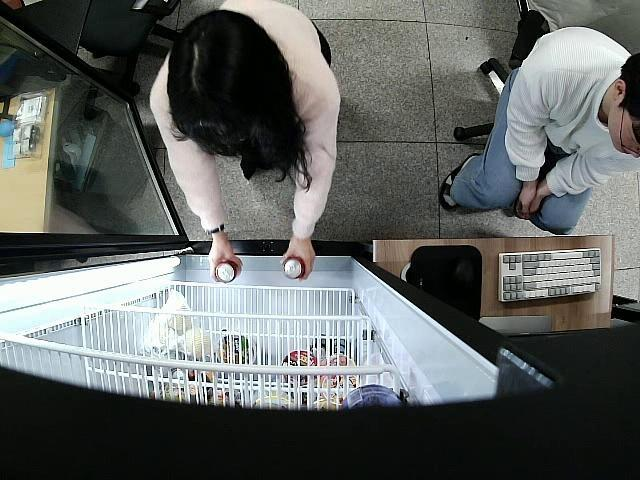11_cocaColaZero: (215, 258, 242, 283), (282, 254, 307, 280)
